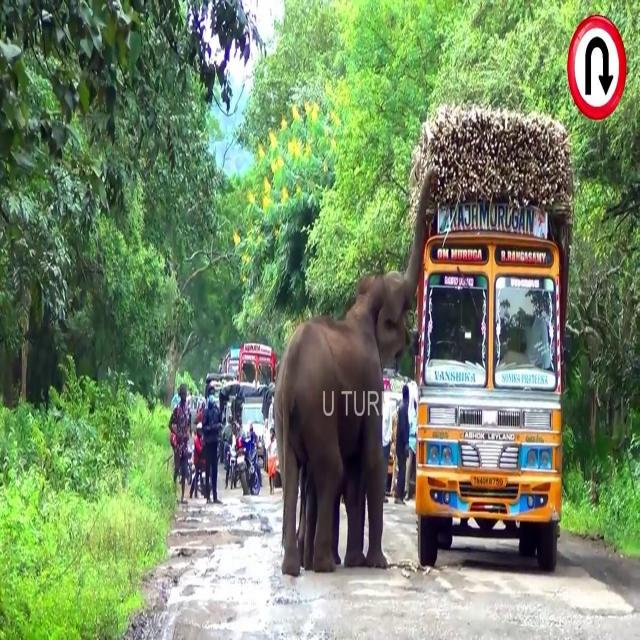Elephant: (273, 166, 435, 576)
